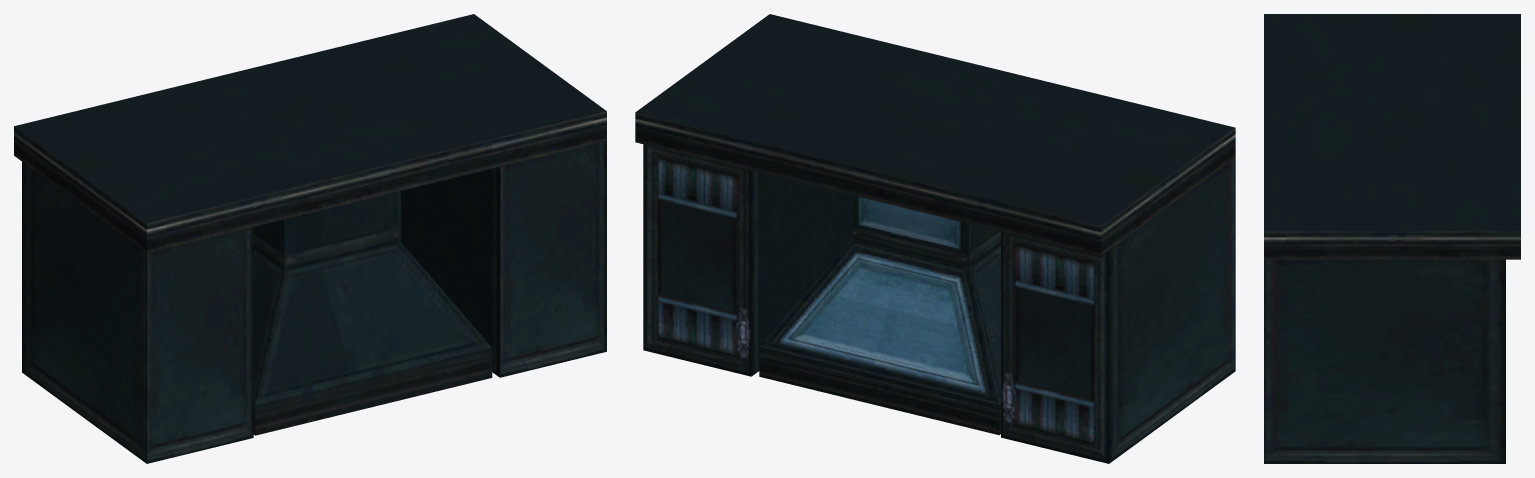
File: furni_0201223_01.FBX
3 renders of one model, left to right at view 1: azimuth 30°, elevation 25°; view 2: azimuth 150°, elevation 25°; view 3: azimuth 270°, elevation 25°, orthographic. The views are drawn at different scales.
Visible parts, largest first — view 1: furni_0201223_01; view 2: furni_0201223_01; view 3: furni_0201223_01.
Part boxes in pixels (<box>): furni_0201223_01: <box>14,14,606,463</box>; furni_0201223_01: <box>635,14,1235,463</box>; furni_0201223_01: <box>1264,14,1520,463</box>.
Size of the model in its own units: 160 by 80.03 by 80.
